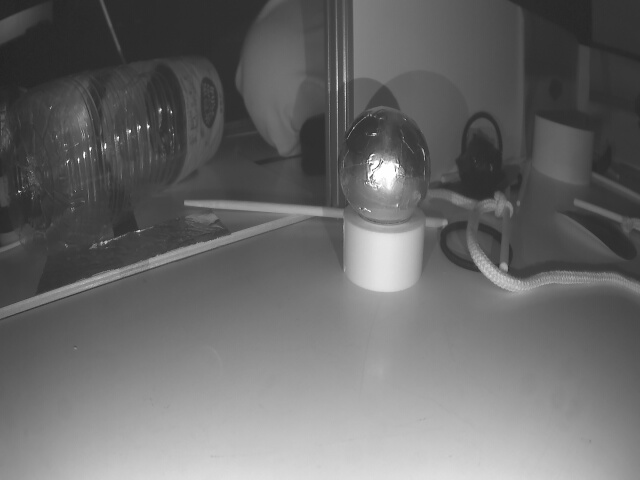Dead: (466, 128, 498, 187)
Live: (344, 103, 427, 221)
